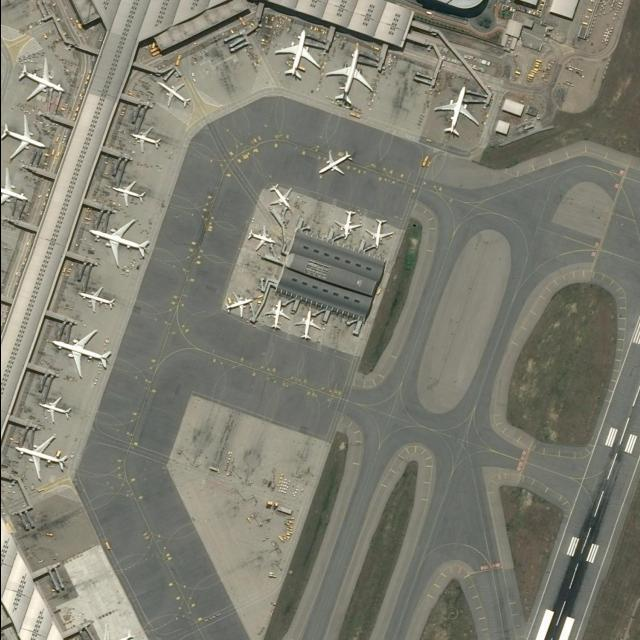Aircraft: (89, 220, 155, 275), (326, 46, 380, 111), (51, 327, 113, 383), (89, 219, 151, 269), (433, 85, 485, 143), (53, 330, 113, 380), (327, 47, 375, 107), (15, 433, 70, 485), (273, 29, 324, 84), (18, 58, 72, 106), (0, 114, 50, 165), (434, 86, 480, 140), (15, 436, 69, 482), (275, 29, 321, 82), (17, 58, 67, 103), (0, 116, 48, 162), (0, 166, 32, 217), (77, 282, 119, 318), (33, 394, 75, 430), (0, 170, 31, 215), (155, 77, 194, 112), (364, 216, 398, 254), (316, 150, 355, 182), (317, 149, 355, 179), (112, 178, 147, 210), (295, 309, 325, 345), (156, 80, 192, 110), (335, 209, 364, 246), (79, 287, 117, 315), (131, 125, 164, 157), (268, 181, 297, 217), (247, 224, 279, 256), (265, 299, 293, 335), (224, 292, 257, 322), (296, 307, 324, 342), (39, 396, 73, 424), (112, 181, 147, 208), (366, 219, 394, 252), (131, 127, 163, 154), (335, 209, 361, 242), (84, 625, 141, 640), (225, 292, 255, 320), (247, 226, 277, 254), (267, 183, 295, 213), (319, 152, 354, 176), (86, 625, 141, 640), (266, 298, 290, 332)
